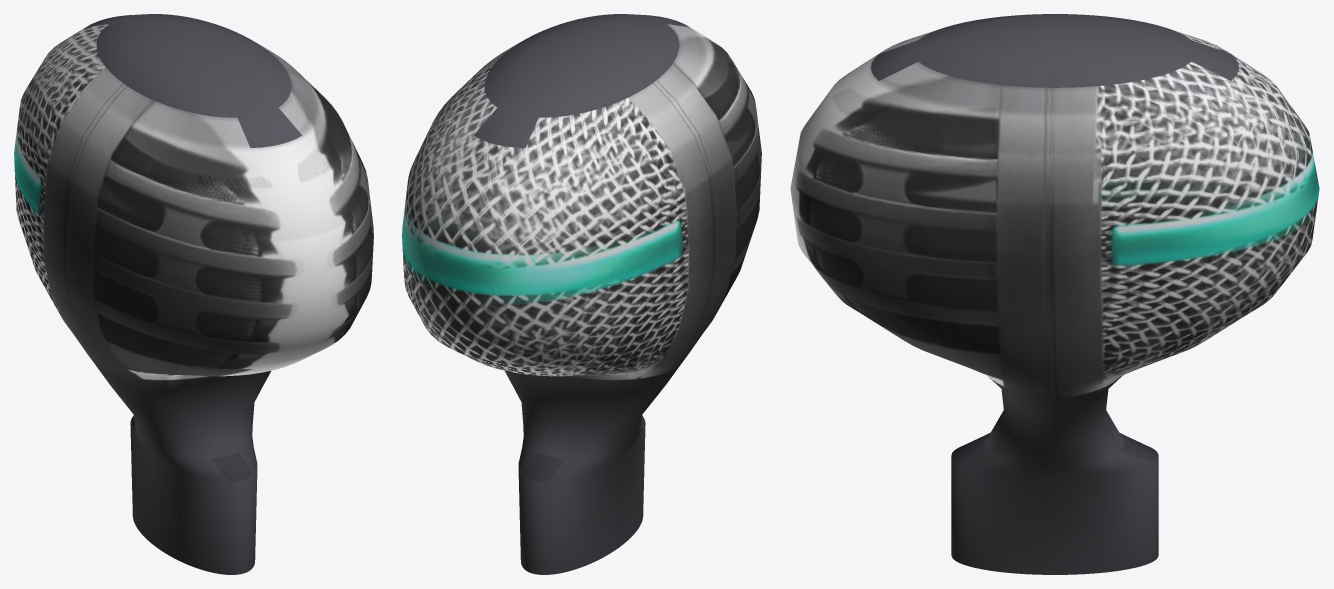
The model's file is akg-d112-mkii.glb.
3 renders of one model, left to right at view 1: azimuth 30°, elevation 25°; view 2: azimuth 150°, elevation 25°; view 3: azimuth 270°, elevation 25°, orthographic. The views are drawn at different scales.
Parts seen in each view (by area): view 1: akg-d112-mkii-body; view 2: akg-d112-mkii-body; view 3: akg-d112-mkii-body.
Part boxes in pixels (left/top/right/bottom): akg-d112-mkii-body: left=14, top=14, right=373, bottom=574; akg-d112-mkii-body: left=402, top=14, right=761, bottom=574; akg-d112-mkii-body: left=790, top=14, right=1319, bottom=574.
Bounding box in the file's own units: 0.07 × 0.126 × 0.115.
Materials: 1 (1 with a texture image).
